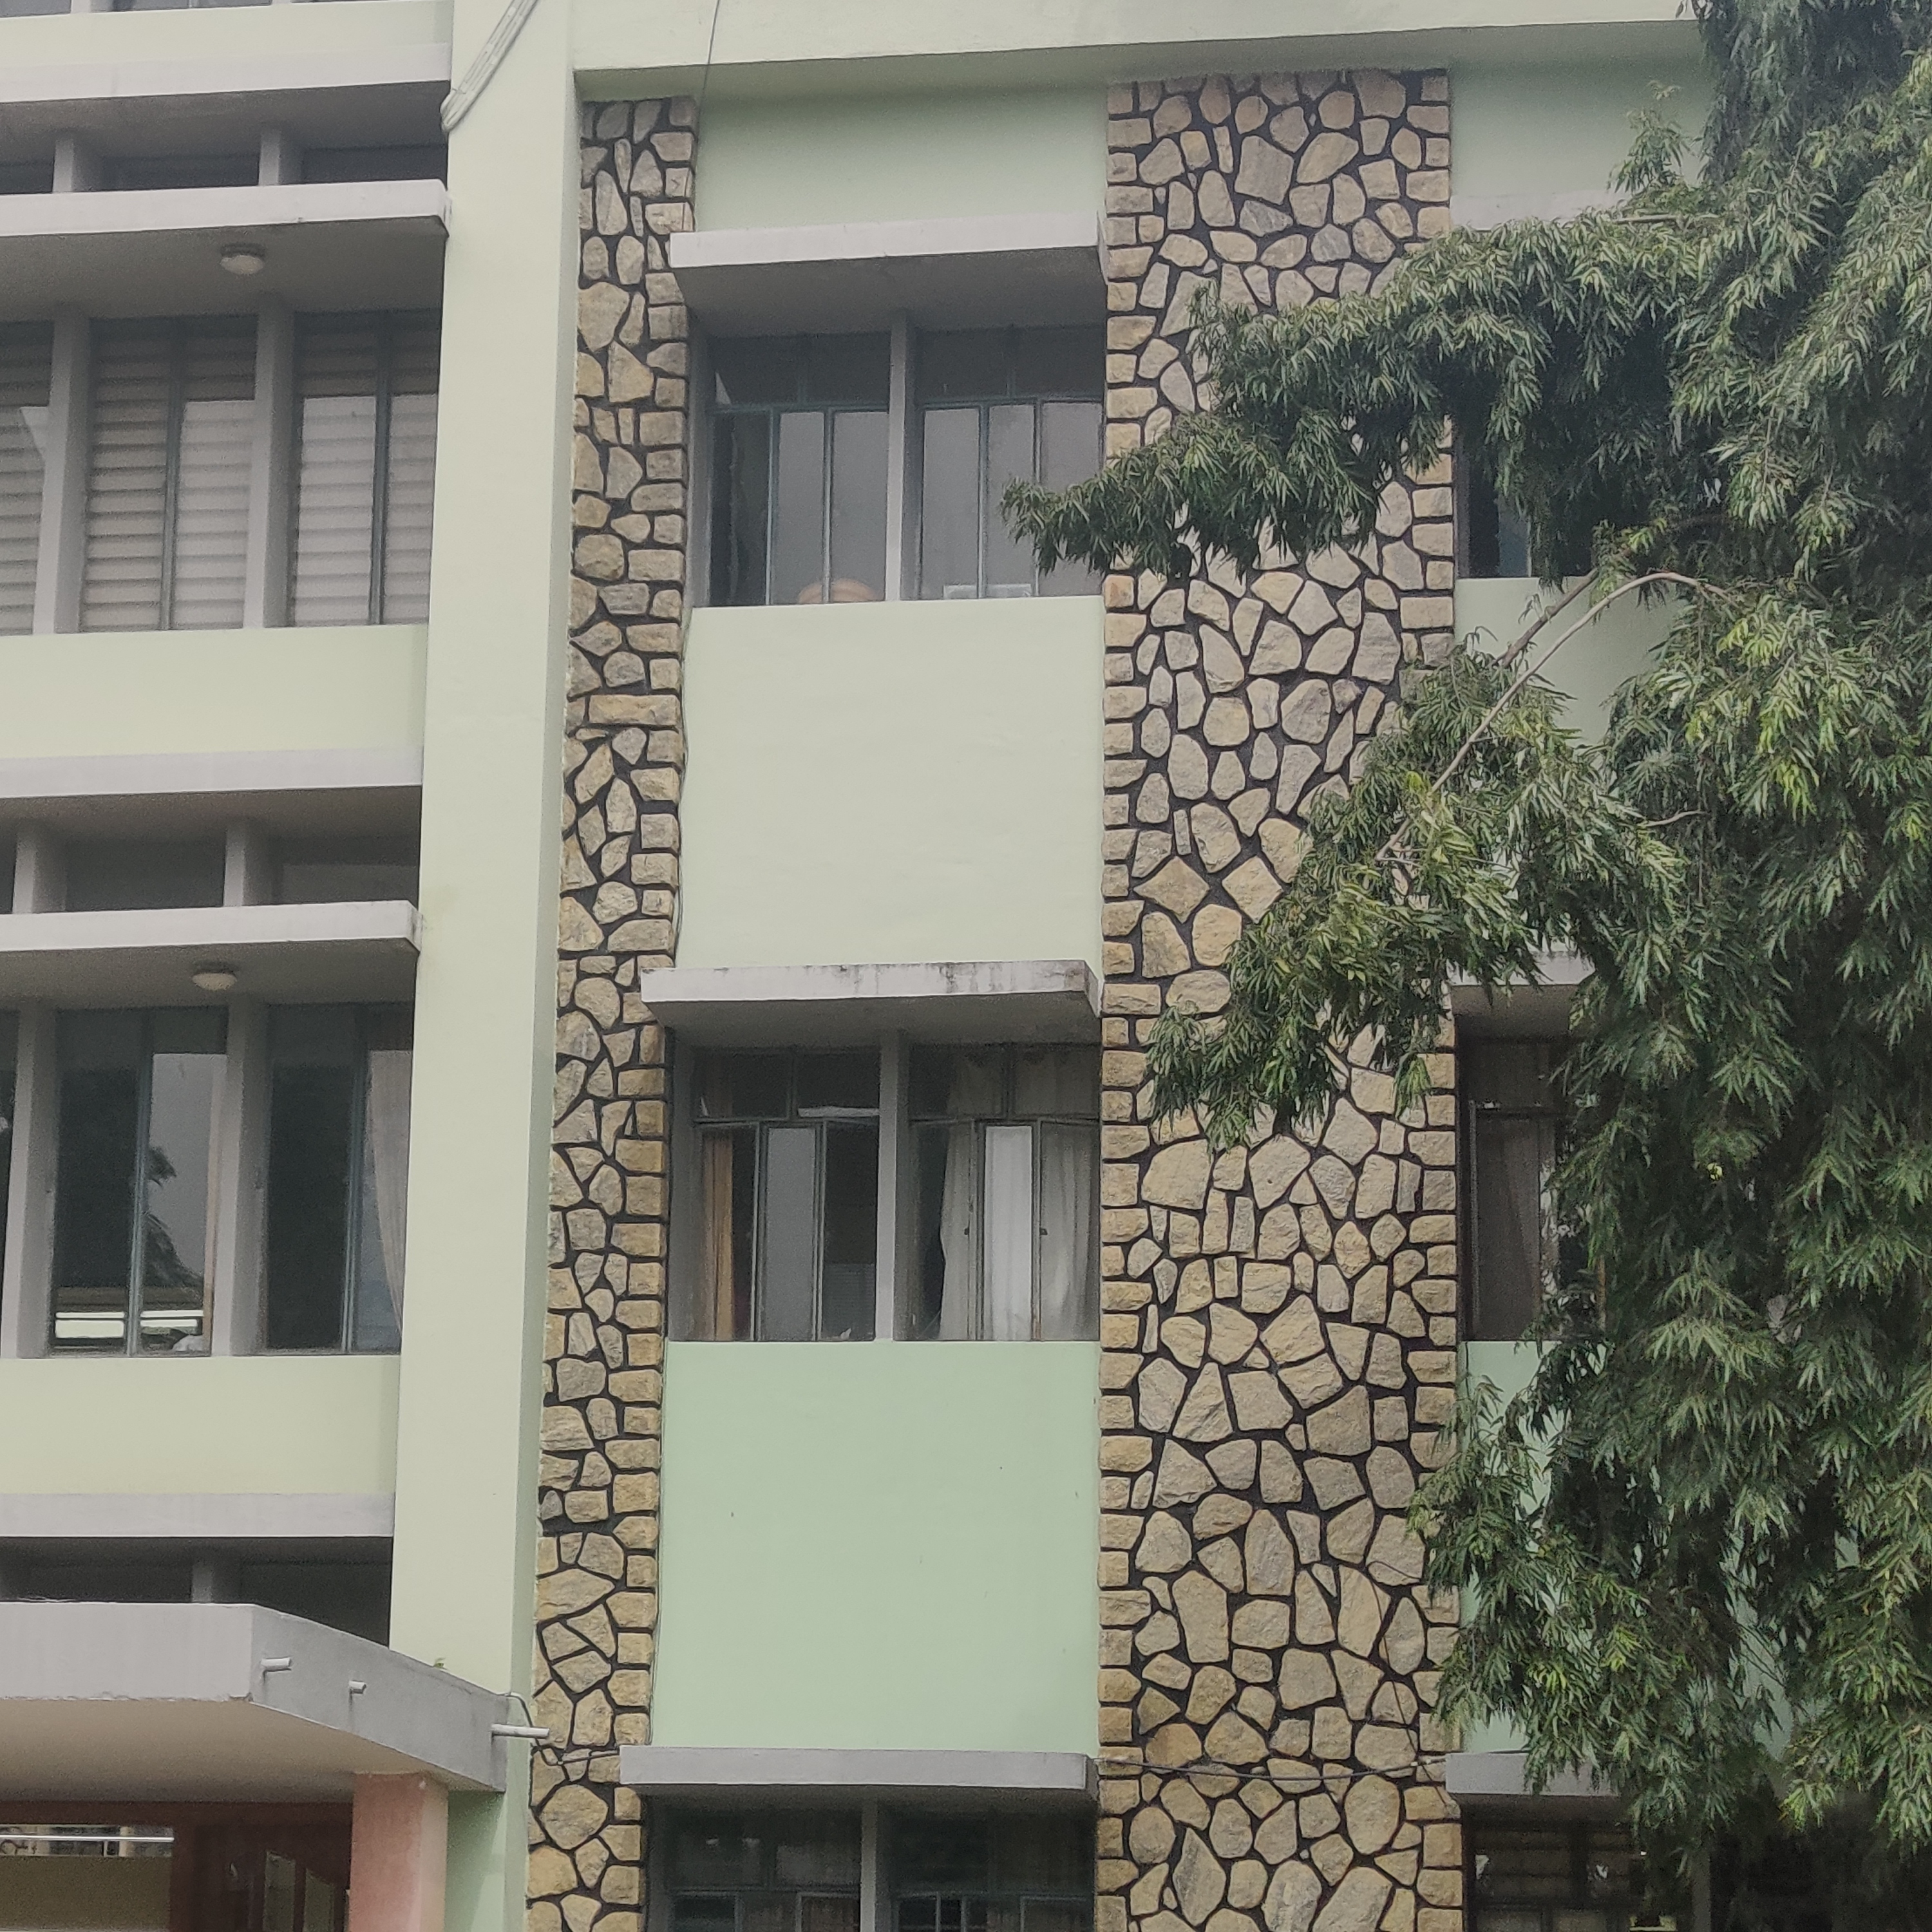Block 1: (9, 12, 1925, 1921)
